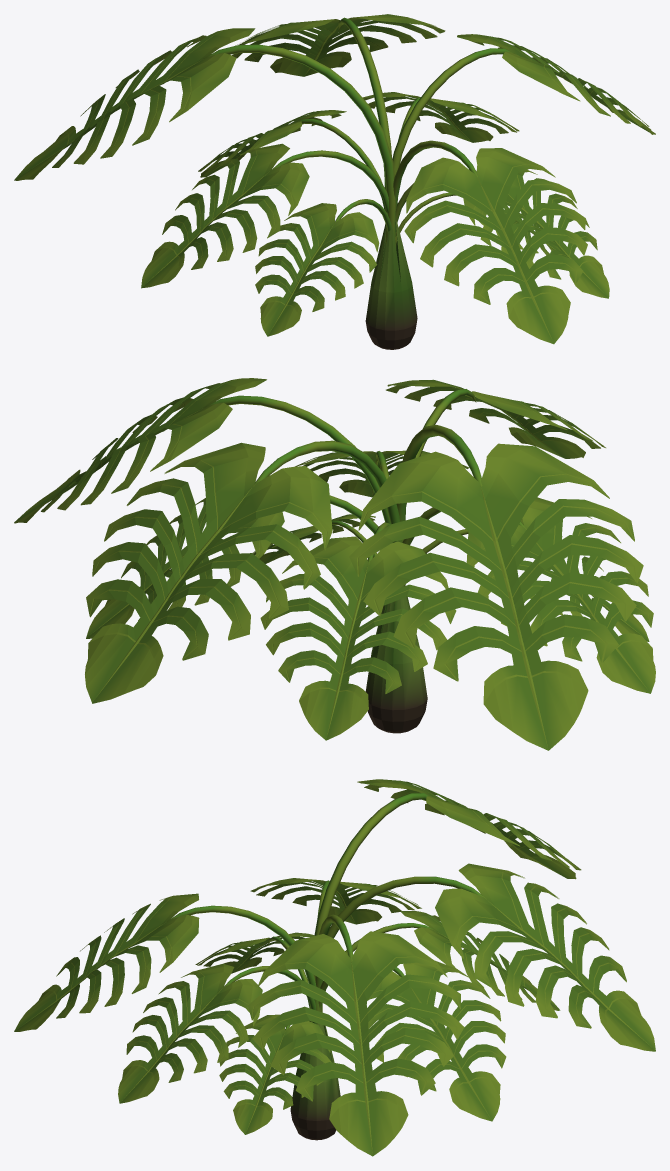
File: Monstera.fbx
The picture shows the model from 3 angles, top to bottom: view 1: azimuth 30°, elevation 25°; view 2: azimuth 150°, elevation 25°; view 3: azimuth 270°, elevation 25°; orthographic projection. The views are drawn at different scales.
Visible parts, largest first — view 1: Circle, Circle.008, Circle.009, Circle.010, Circle.006, Circle.001, Circle.002, Circle.004, BezierCurve.007, Circle.005, Circle.007, BezierCurve.003 (+4 smaller); view 2: Circle.008, Circle.006, Circle.007, Circle.009, Circle.004, Circle, Circle.001, Circle.005, Circle.002, BezierCurve.005, BezierCurve.003, BezierCurve.007 (+3 smaller); view 3: Circle.004, Circle.006, Circle.002, Circle.005, Circle, Circle.003, Circle.008, Circle.007, Circle.001, Circle.009, BezierCurve.007, Circle.010 (+3 smaller).
Boxes of the visible parts, x1,y1,x2,y2 form: Circle: (404, 148, 587, 344); Circle.008: (14, 28, 255, 180); Circle.009: (141, 143, 309, 288); Circle.010: (255, 203, 379, 336); Circle.006: (232, 14, 445, 76); Circle.001: (365, 221, 417, 349); Circle.002: (464, 169, 609, 298); Circle.004: (457, 34, 655, 134); BezierCurve.007: (203, 44, 395, 243); Circle.005: (362, 92, 519, 142); Circle.007: (198, 110, 346, 177); BezierCurve.003: (392, 48, 514, 176); Circle.008: (349, 443, 643, 750); Circle.006: (85, 442, 332, 703); Circle.007: (260, 536, 456, 740); Circle.009: (466, 497, 655, 693); Circle.004: (14, 378, 266, 523); Circle: (386, 379, 605, 458); Circle.001: (365, 585, 427, 733); Circle.005: (86, 498, 284, 638); Circle.002: (295, 450, 468, 497); BezierCurve.005: (252, 440, 402, 542); BezierCurve.003: (204, 395, 395, 603); BezierCurve.007: (396, 424, 482, 541); Circle.004: (248, 931, 464, 1156); Circle.006: (435, 863, 655, 1051); Circle.002: (118, 963, 262, 1103); Circle.005: (367, 960, 506, 1121); Circle: (14, 893, 199, 1031); Circle.003: (219, 1014, 331, 1134); Circle.008: (357, 779, 581, 879); Circle.007: (400, 911, 560, 1010); Circle.001: (290, 1021, 340, 1140); Circle.009: (250, 878, 421, 924); BezierCurve.007: (310, 793, 429, 1008); Circle.010: (195, 932, 314, 973).
Size of the model in its own units: 218 by 112 by 221.
